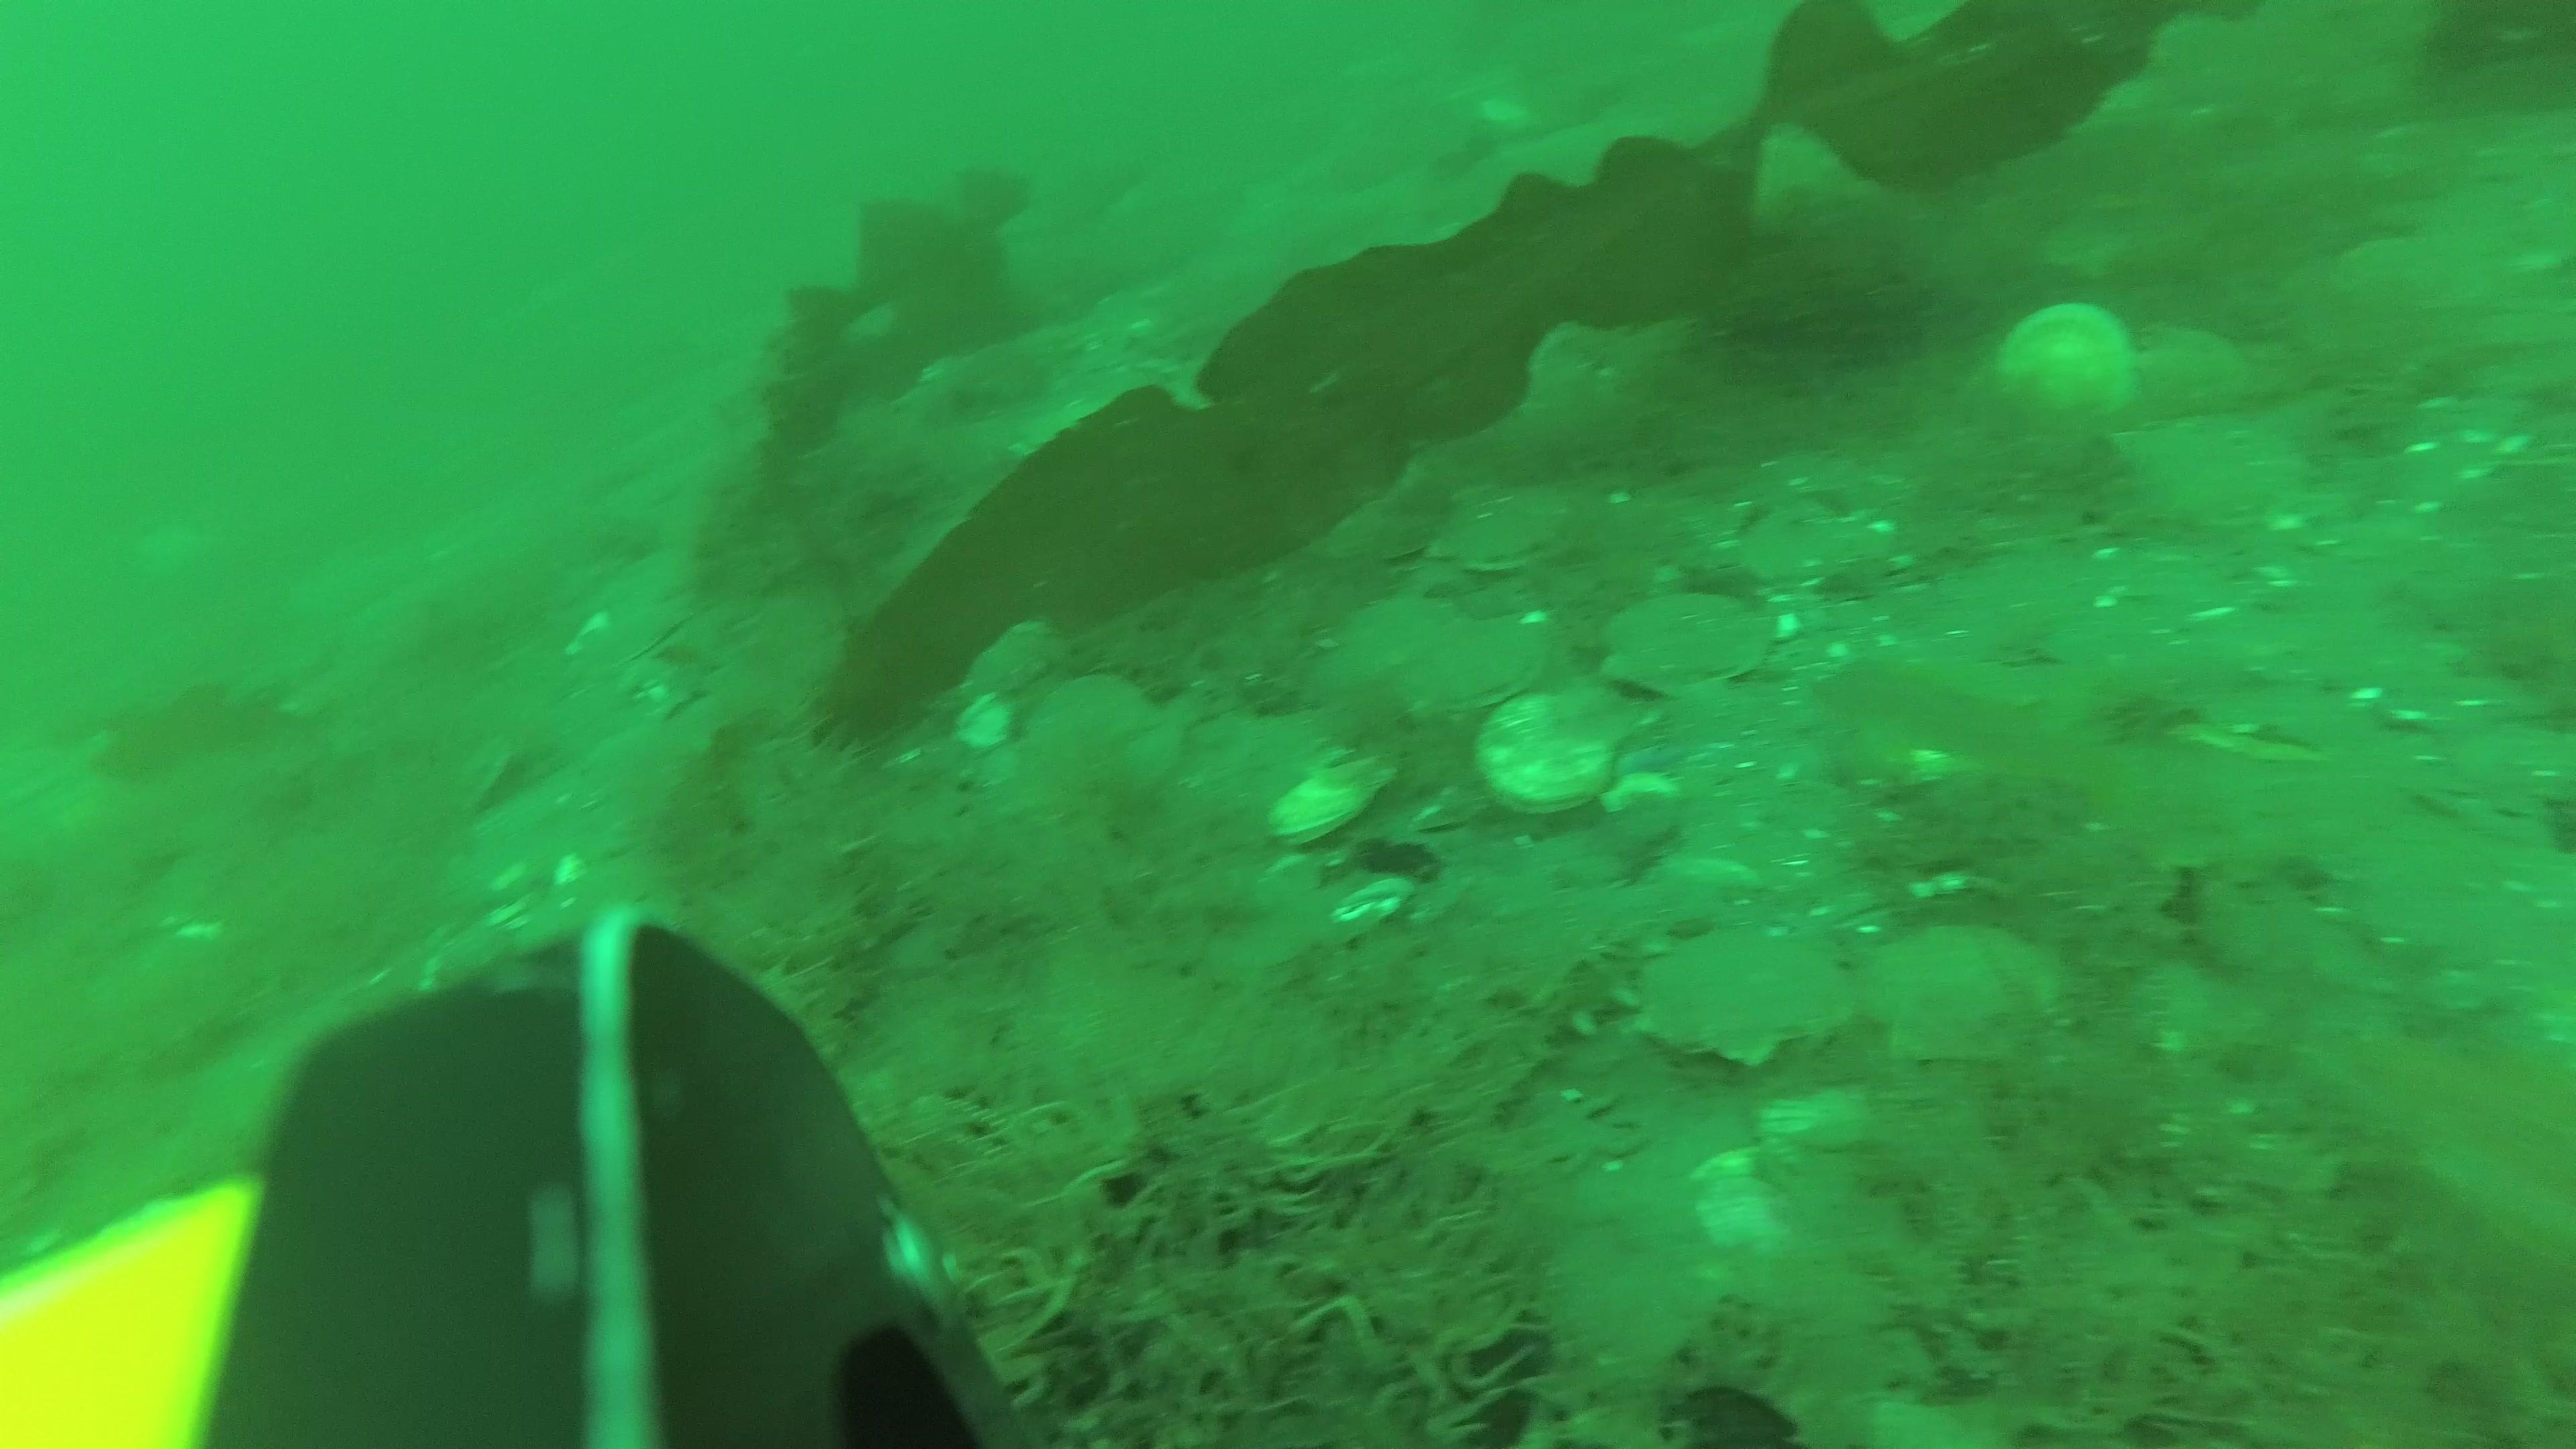holothurian: (1438, 916, 1654, 1092)
scallop: (1649, 927, 1845, 1063), (1874, 913, 2049, 1060), (1483, 676, 1647, 826), (1550, 1226, 1718, 1366), (1601, 580, 1762, 715), (2139, 412, 2304, 533), (1994, 303, 2143, 430), (1323, 587, 1451, 695), (1407, 621, 1539, 724), (1272, 743, 1389, 853), (2127, 322, 2247, 425), (1737, 495, 1852, 596), (1456, 483, 1571, 575), (1028, 679, 1152, 759), (2335, 226, 2457, 306)
